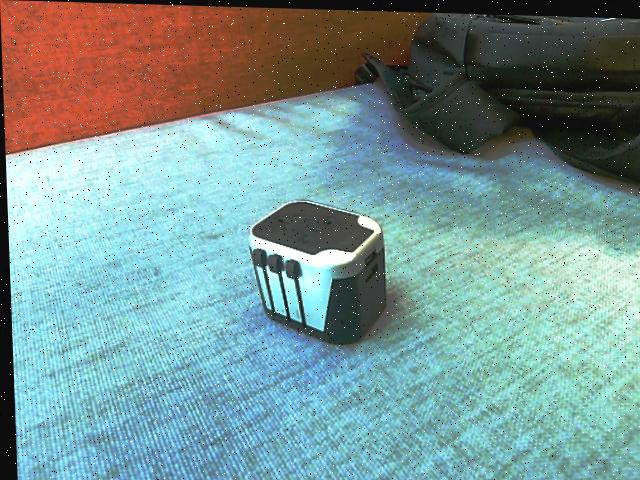adapter: (244, 197, 386, 344)
